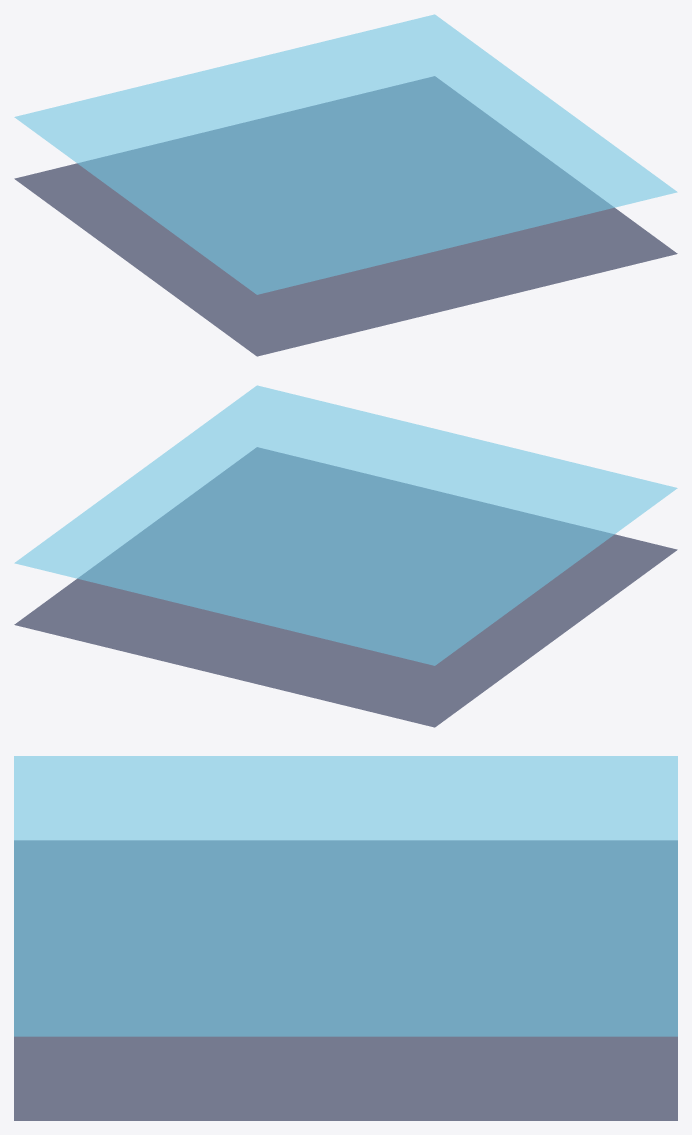
File: fountain-center.glb
The picture shows the model from 3 angles, top to bottom: view 1: azimuth 30°, elevation 25°; view 2: azimuth 150°, elevation 25°; view 3: azimuth 270°, elevation 25°; orthographic projection. The views are drawn at different scales.
Parts seen in each view (by area): view 1: (%ignore), fountain-center; view 2: (%ignore), fountain-center; view 3: fountain-center, (%ignore).
Part boxes in pixels (left/top/right/bottom): (%ignore): left=14, top=14, right=677, bottom=294; fountain-center: left=14, top=76, right=677, bottom=356; (%ignore): left=14, top=385, right=677, bottom=665; fountain-center: left=14, top=447, right=677, bottom=727; fountain-center: left=14, top=840, right=677, bottom=1120; (%ignore): left=14, top=756, right=677, bottom=1036.
Bounding box in the file's own units: 1 × 0.14 × 1.
2 materials, 1 textured.
